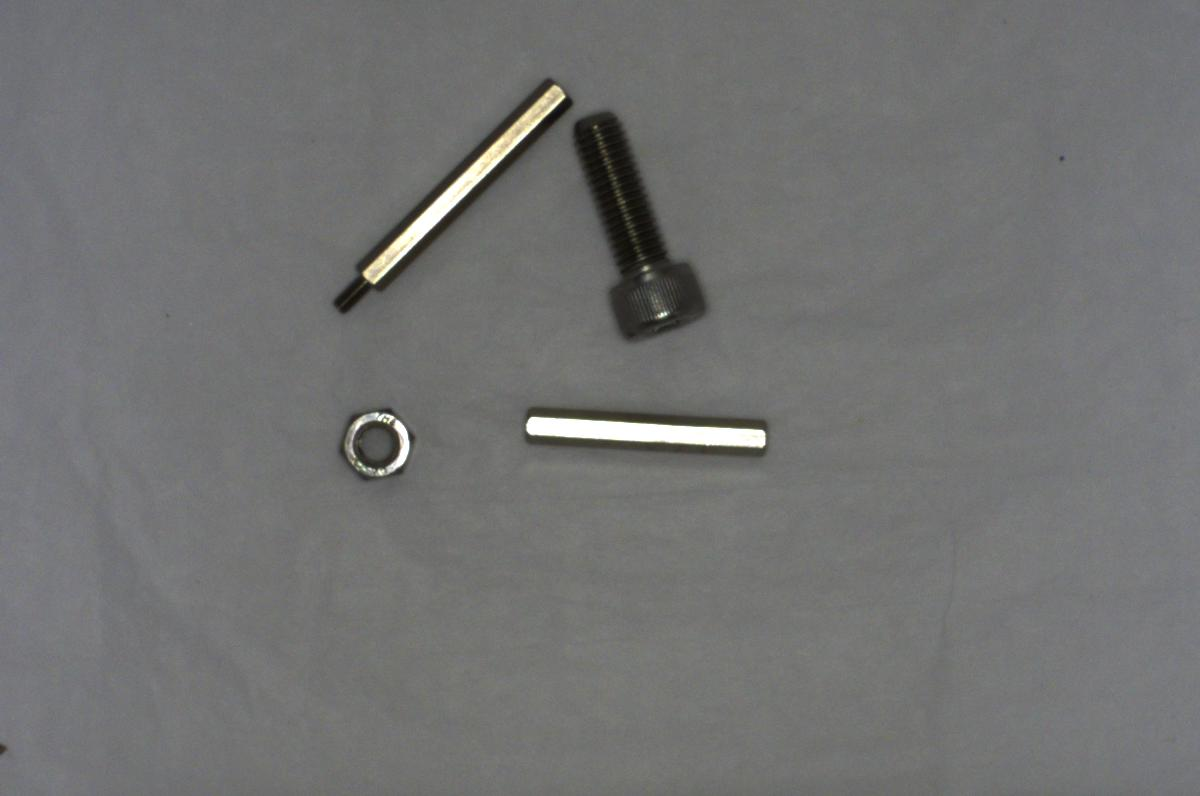Double hexagonal column: (515, 400, 774, 465)
Hexagon nut: (322, 401, 418, 486)
Hexagon screw: (571, 103, 706, 341)
Hexagonal steel column: (317, 72, 572, 308)
